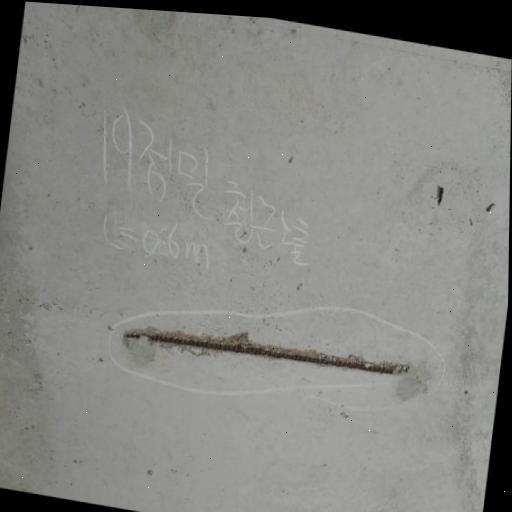exposed_rebar: (124, 327, 409, 375)
